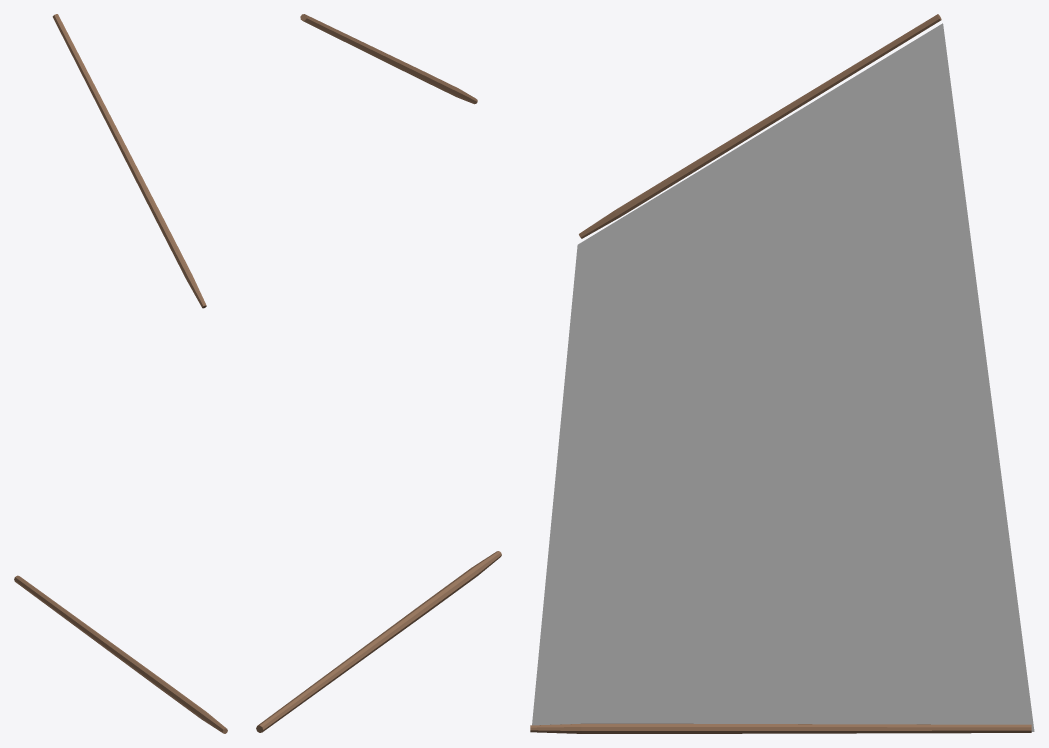
Rendered from lug_sail.gltf.
3 views of the same model, side by side, from view 1: azimuth 30°, elevation 25°; view 2: azimuth 150°, elevation 25°; view 3: azimuth 270°, elevation 25° (orthographic). The views are drawn at different scales.
Visible parts, largest first — view 1: Cylinder.002, Cylinder.001; view 2: Cylinder.001, Cylinder.002; view 3: Plane.001, Cylinder.001, Cylinder.002.
Boxes of the visible parts, box(x1,y1,x2,y2) form: Cylinder.002: box(52, 14, 206, 308); Cylinder.001: box(14, 575, 227, 733); Cylinder.001: box(256, 551, 501, 732); Cylinder.002: box(300, 14, 477, 104); Plane.001: box(532, 23, 1034, 731); Cylinder.001: box(530, 723, 1031, 733); Cylinder.002: box(579, 14, 941, 238).
Size of the model in its own units: 0.0684 by 4.94 by 3.13.
